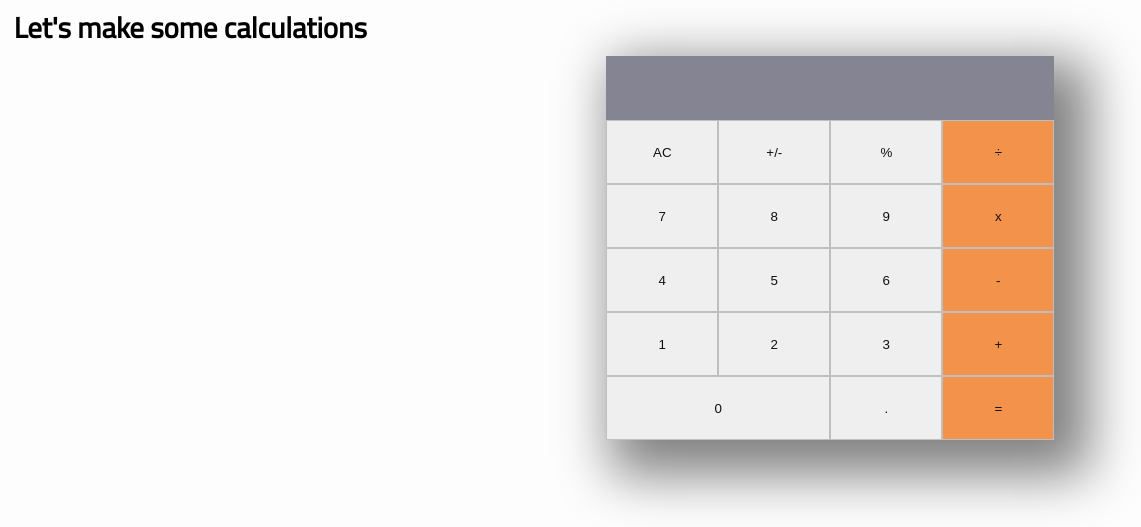
Scenario: Calculator component › calculator UI › clicked button is displayed
Click the button "9": (886, 216) [830, 184, 942, 248]
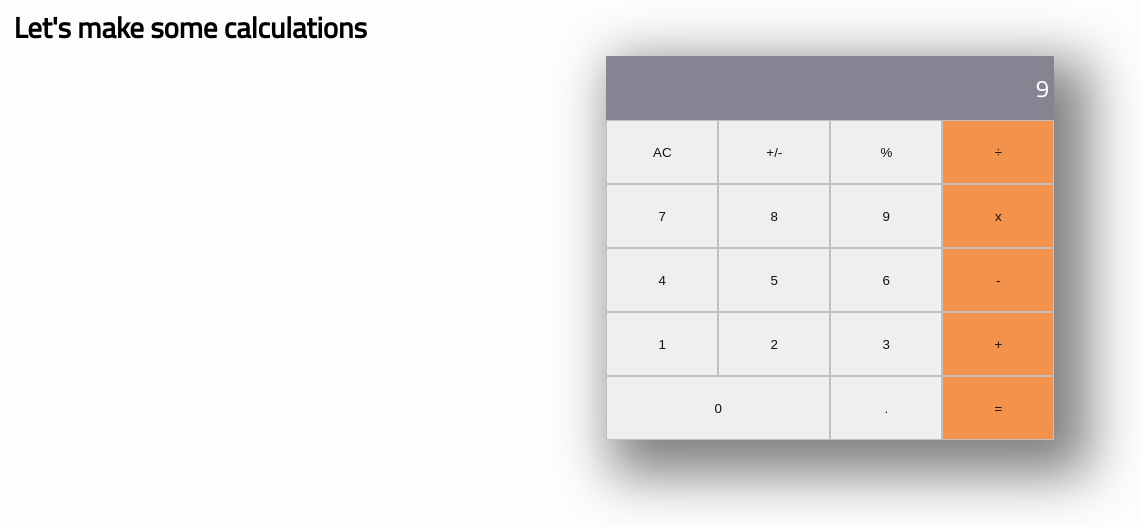
expect the text with test id "display" reads "9": met, box [1036, 66, 1049, 110]
